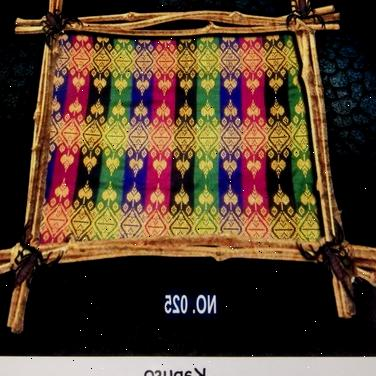malong: (31, 21, 309, 258)
